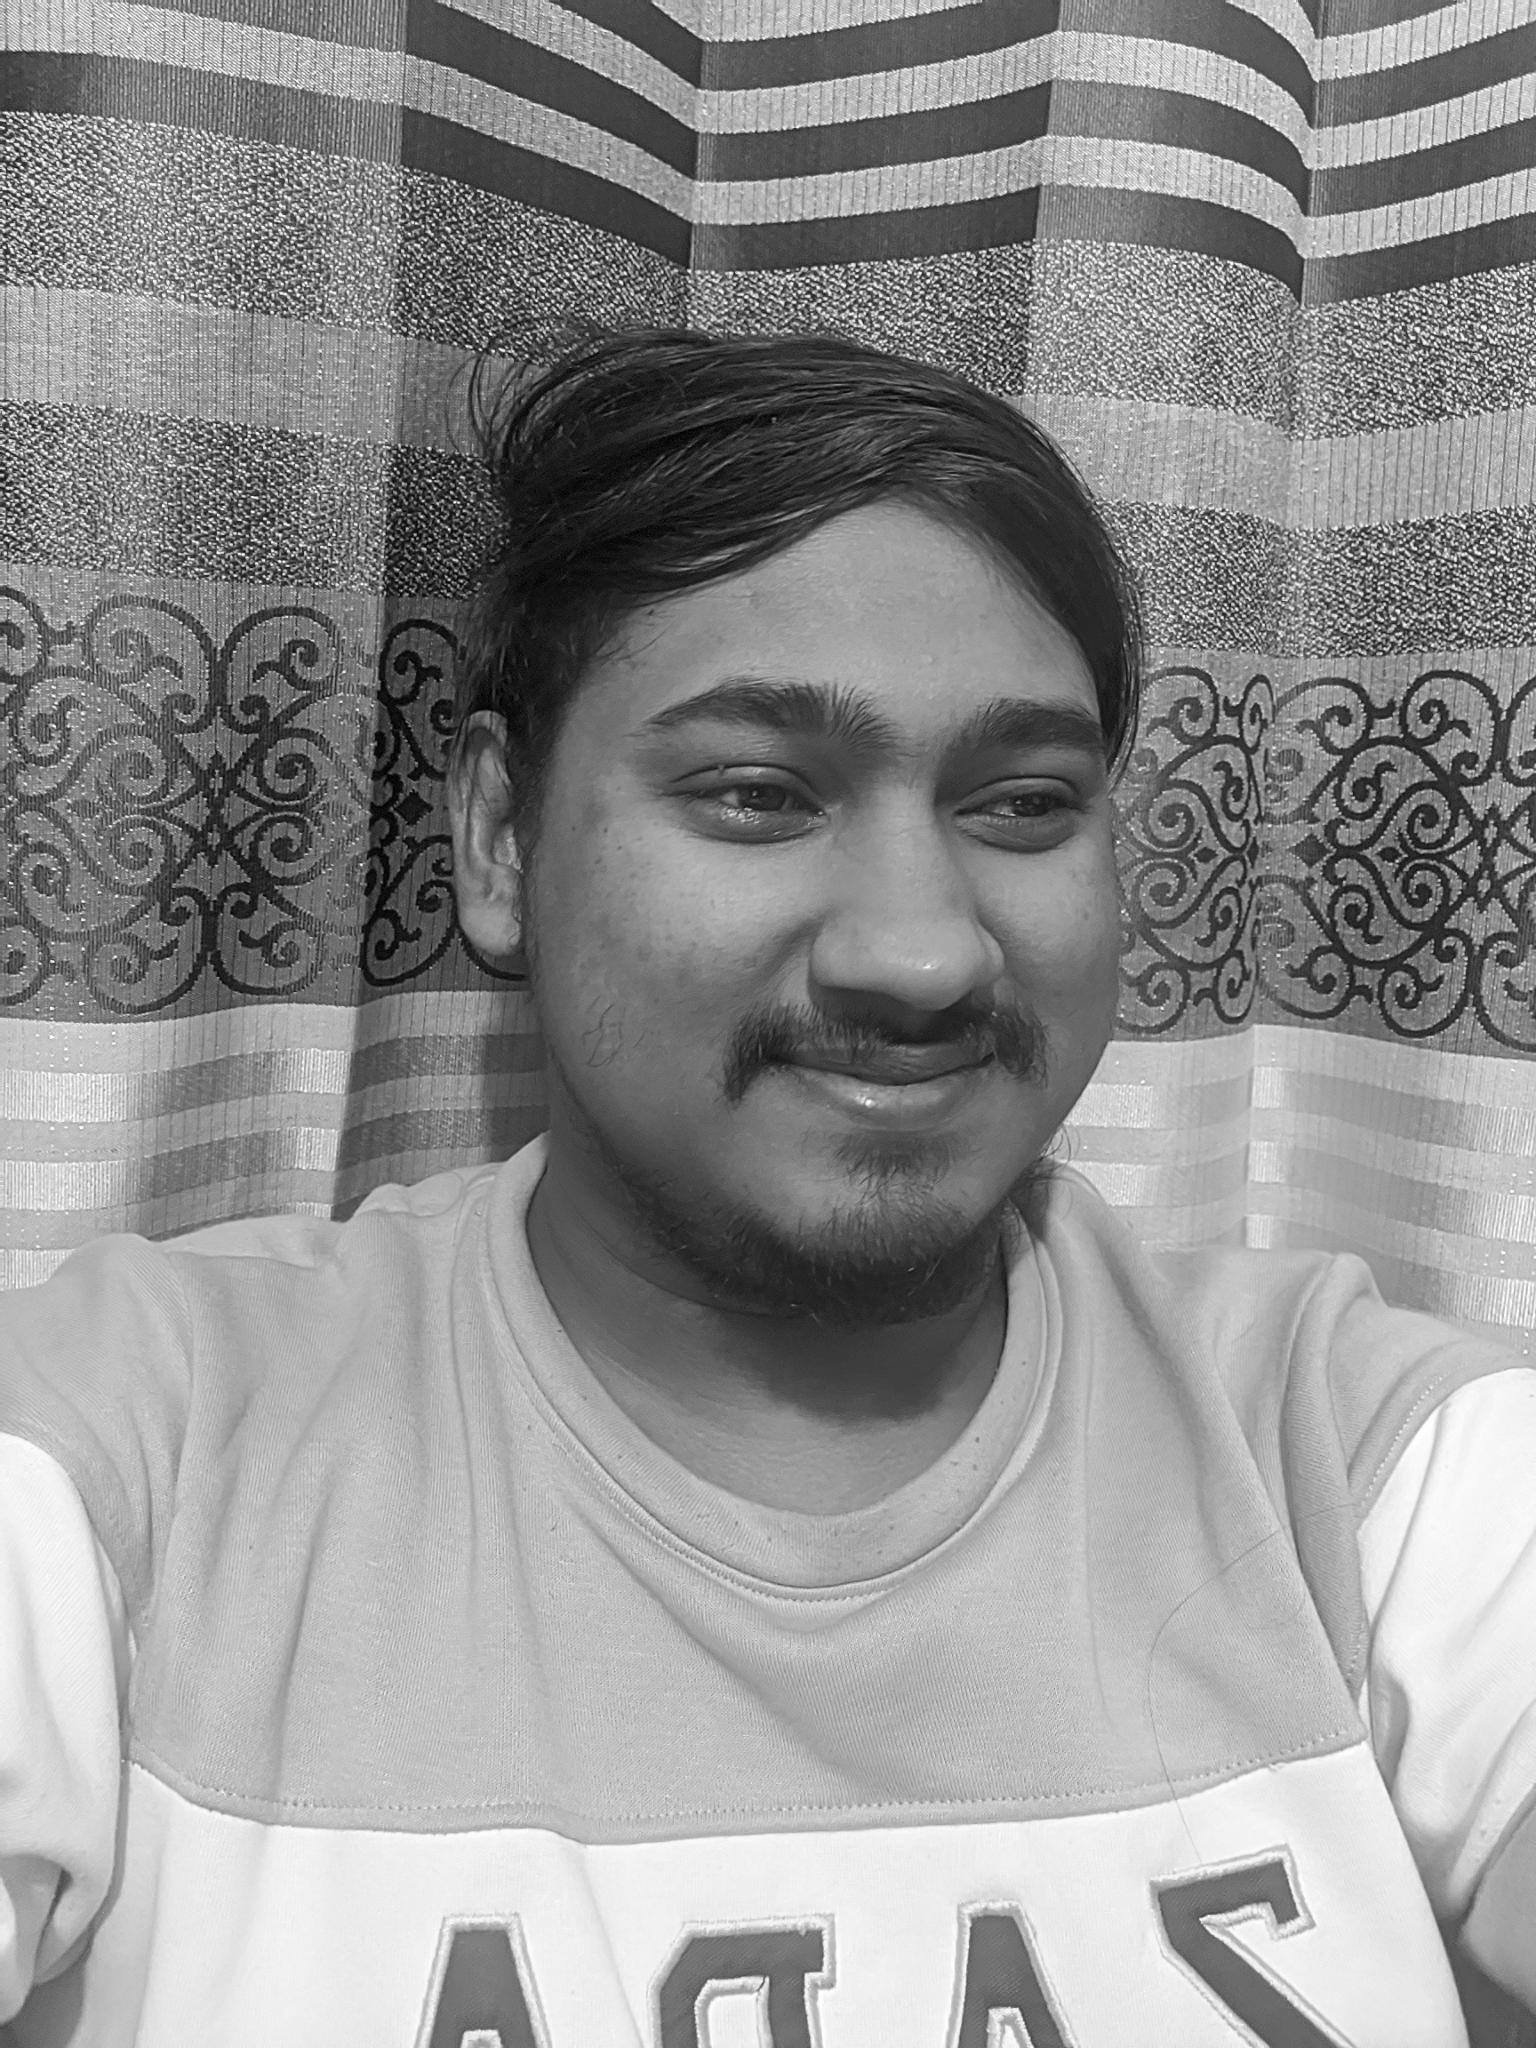Happy: (620, 611, 1137, 1234)
